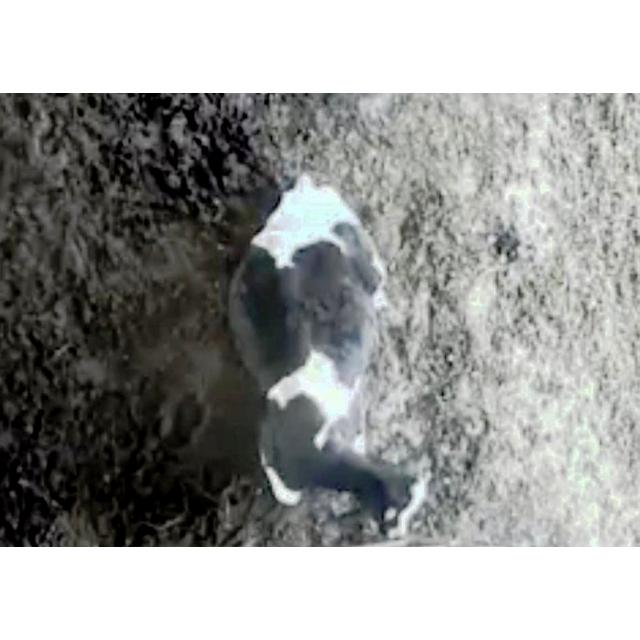lay: (215, 170, 452, 540)
